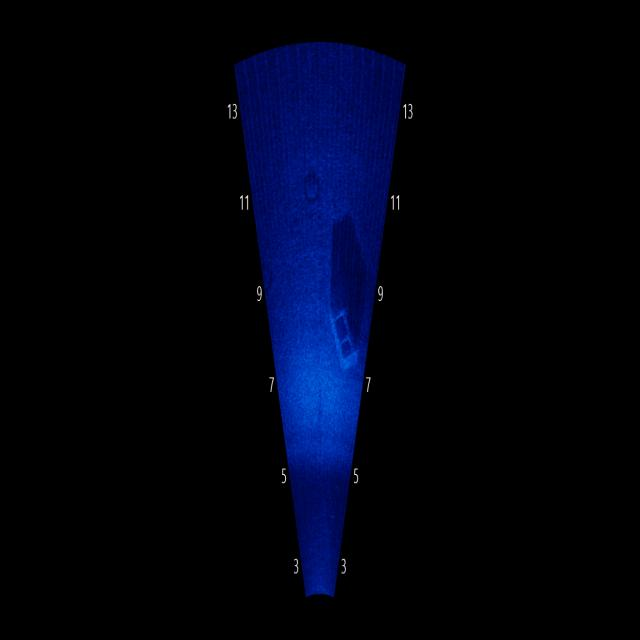square: (320, 272, 364, 383)
